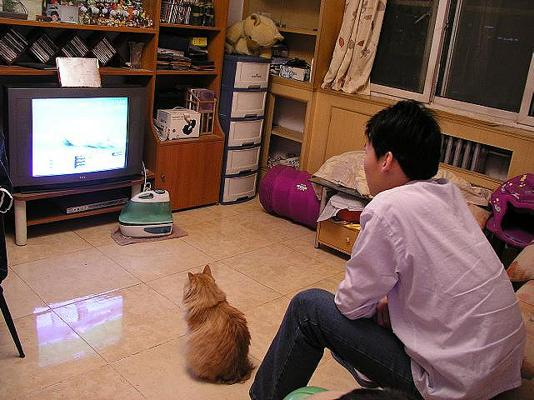person: (251, 101, 528, 400)
